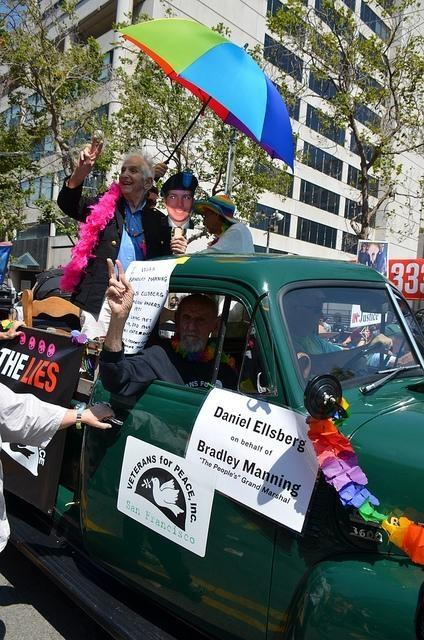truck: (3, 244, 421, 640)
